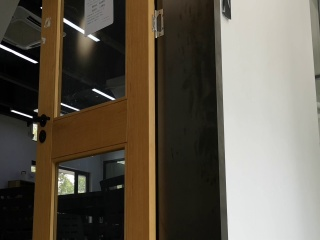room: (33, 3, 235, 240)
